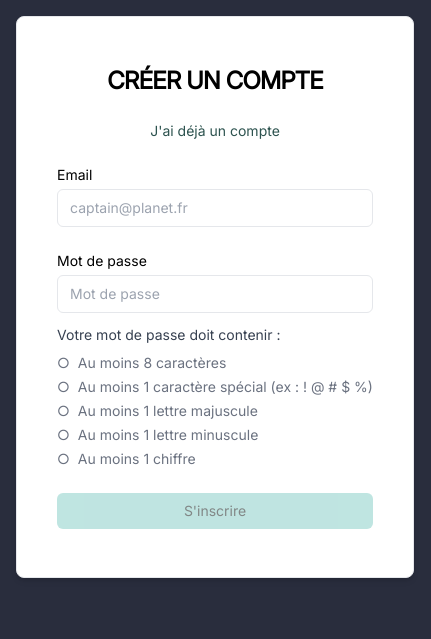
it: RegisterPage - Integration Tests › should not create an account with existing data
The width and height of the screenshot is (431, 639).
Type "existing@example.com" into the field labelled "Email" at (215, 208), box [57,189,373,227]
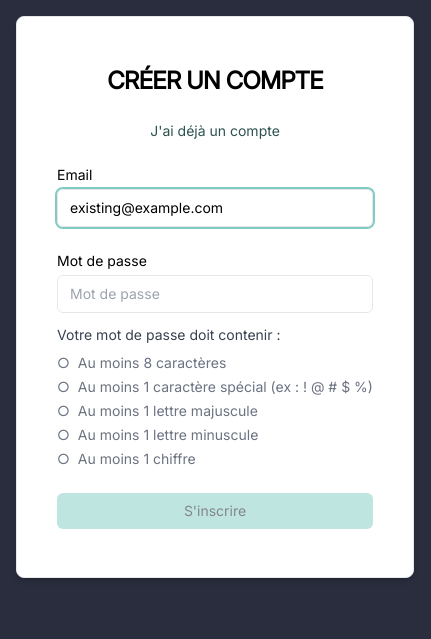
Type "ValidPass123!" into the password field labelled "Mot de passe" at (215, 294), box [57,275,373,313]
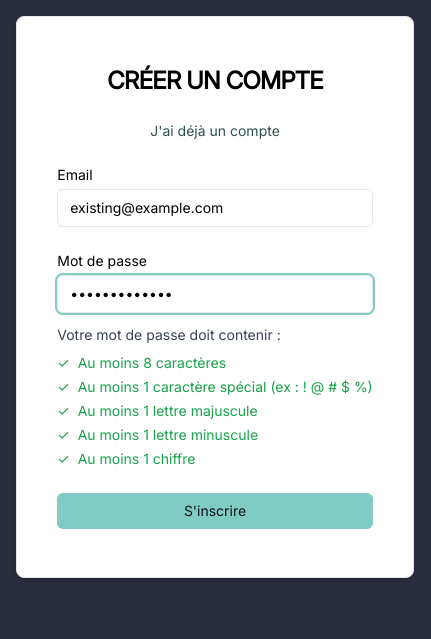
Click the button "S'inscrire" at (215, 511), box [57,493,373,529]
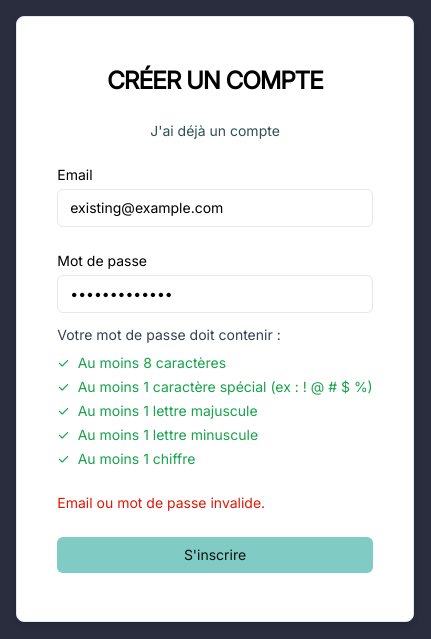
Check: the message "Email ou mot de passe invalide." is shown, box [57,494,265,511]
